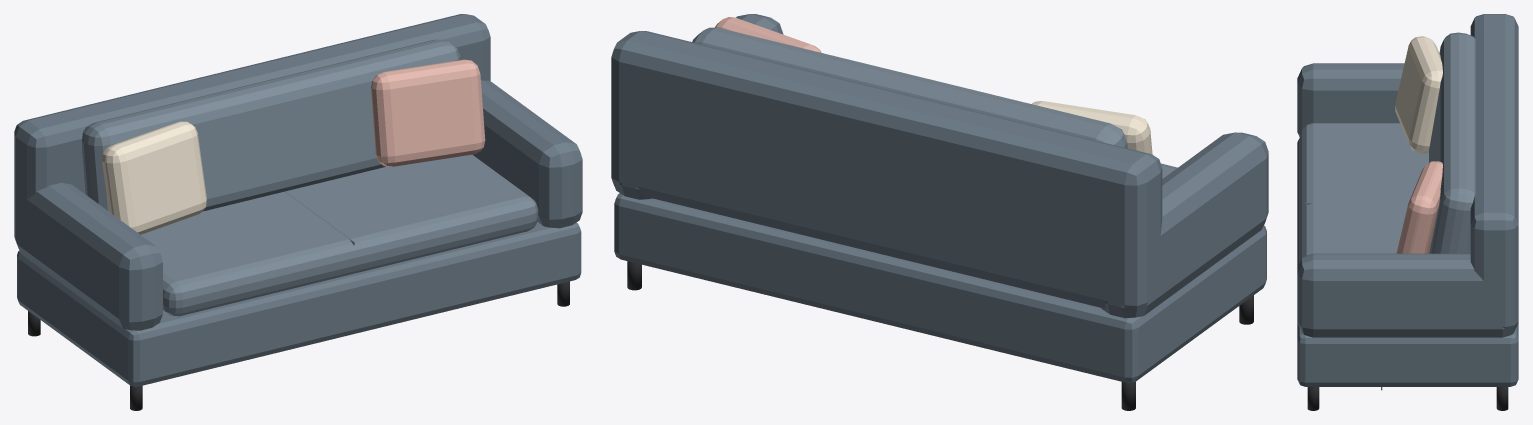
File: sofaBed.glb
3 views of the same model, side by side, from view 1: azimuth 30°, elevation 25°; view 2: azimuth 150°, elevation 25°; view 3: azimuth 270°, elevation 25° (orthographic). The views are drawn at different scales.
Parts seen in each view (by area): view 1: sofa; view 2: sofa; view 3: sofa.
Part boxes in pixels (x1,y1,x2,y2): sofa: [14, 14, 582, 410]; sofa: [611, 14, 1268, 410]; sofa: [1297, 14, 1518, 410].
Size of the model in its own units: 1.86 by 0.8299 by 0.83.
